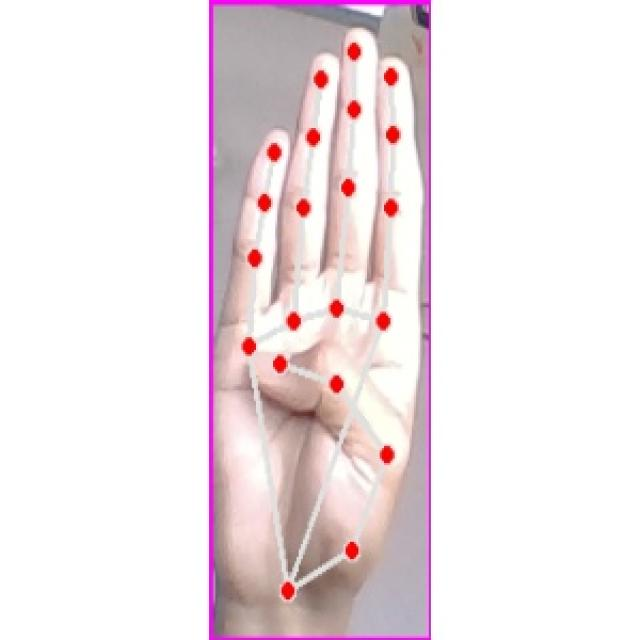B: (220, 16, 425, 603)
